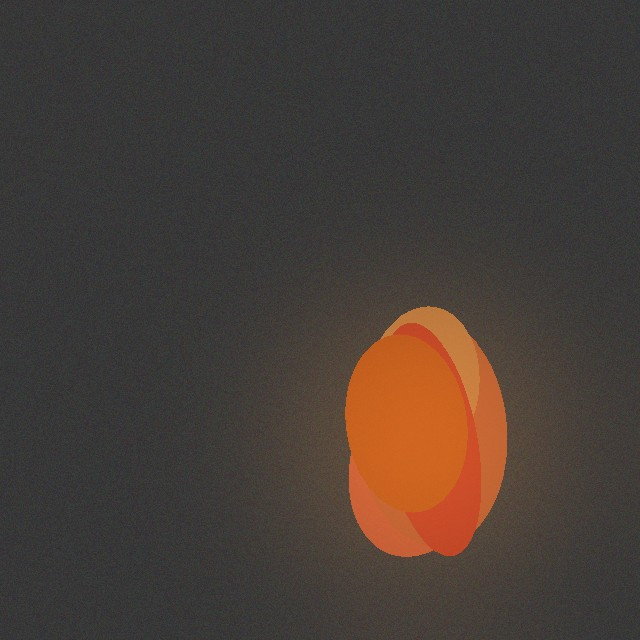fire: (354, 348, 488, 536)
